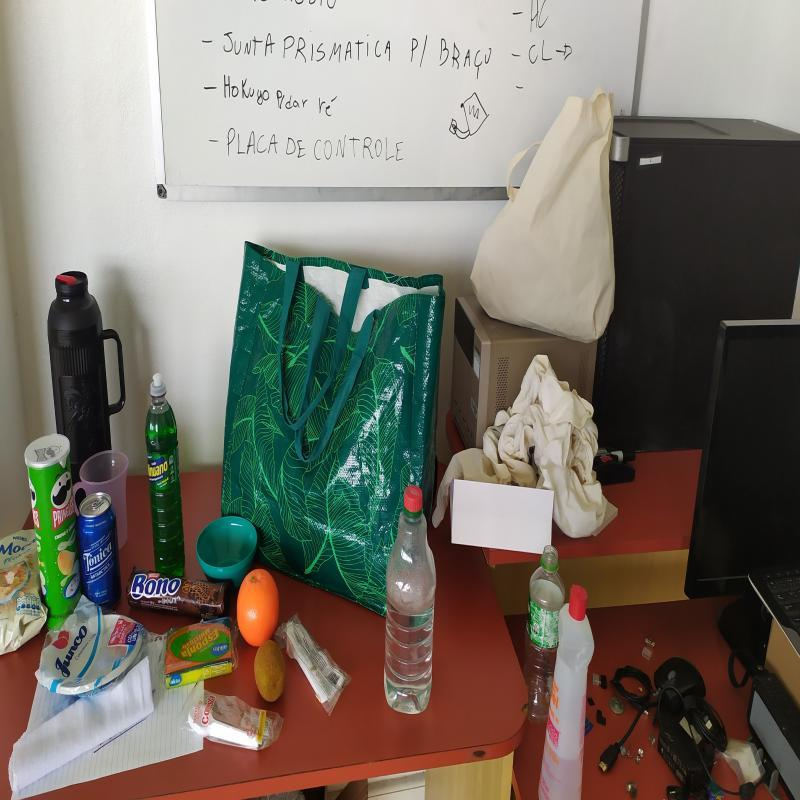Bag: (218, 235, 446, 614), (470, 85, 620, 344)
Bowl: (197, 512, 259, 586)
Cleaner: (140, 371, 187, 582)
Cookies: (129, 569, 230, 622)
CornFlakes: (0, 530, 50, 661)
Kiwi: (252, 642, 286, 702)
Mug: (77, 442, 133, 548)
Orange: (239, 570, 280, 646)
Plate: (37, 615, 144, 696)
Pringles: (29, 431, 85, 632)
Sponge: (165, 626, 236, 693)
Tonic: (80, 493, 124, 620)
